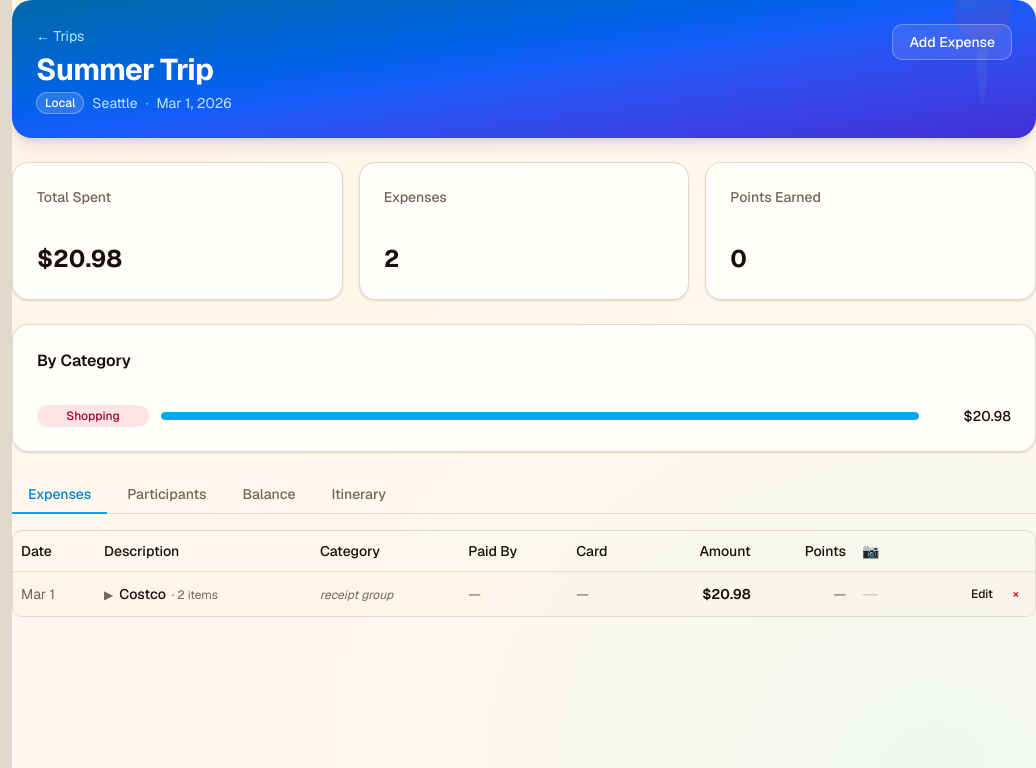
Receipt group row › shows Edit and Delete buttons on expanded line items
Expected: the text "Costco" is shown, [119, 584, 166, 602]
What coordinates should you click on to do the following:
click the text "Costco"
I would click on:
 (524, 593)
Its box is [13, 571, 1035, 616].
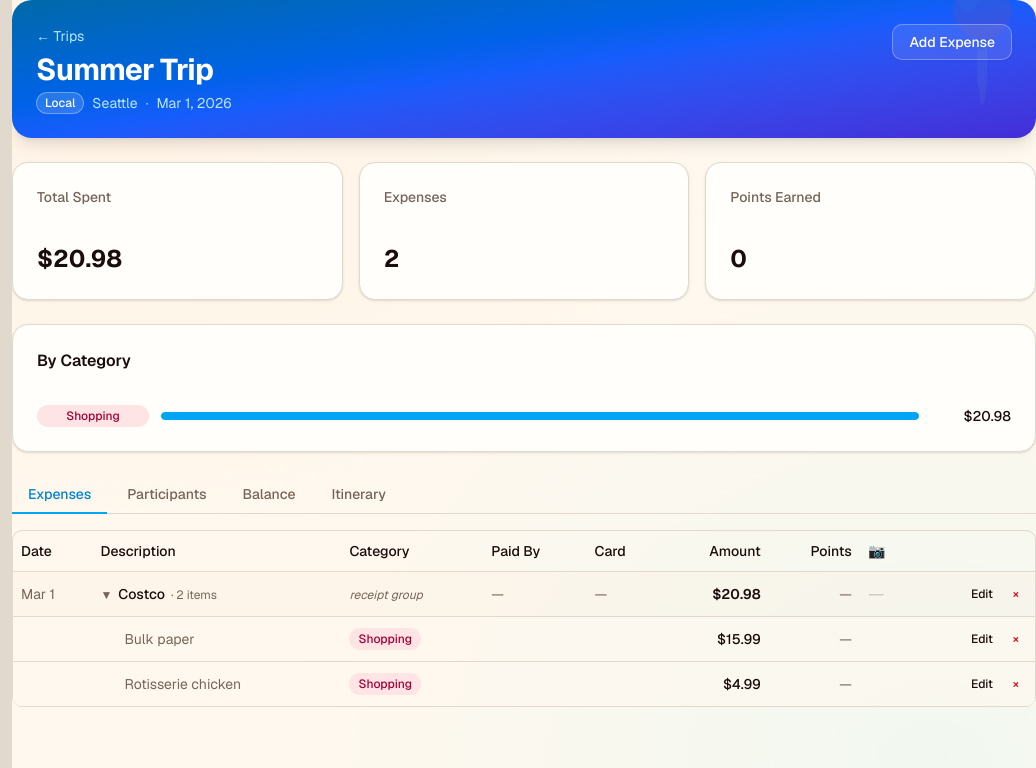
Result: the text "Bulk paper" is shown at [92, 616, 342, 661]
